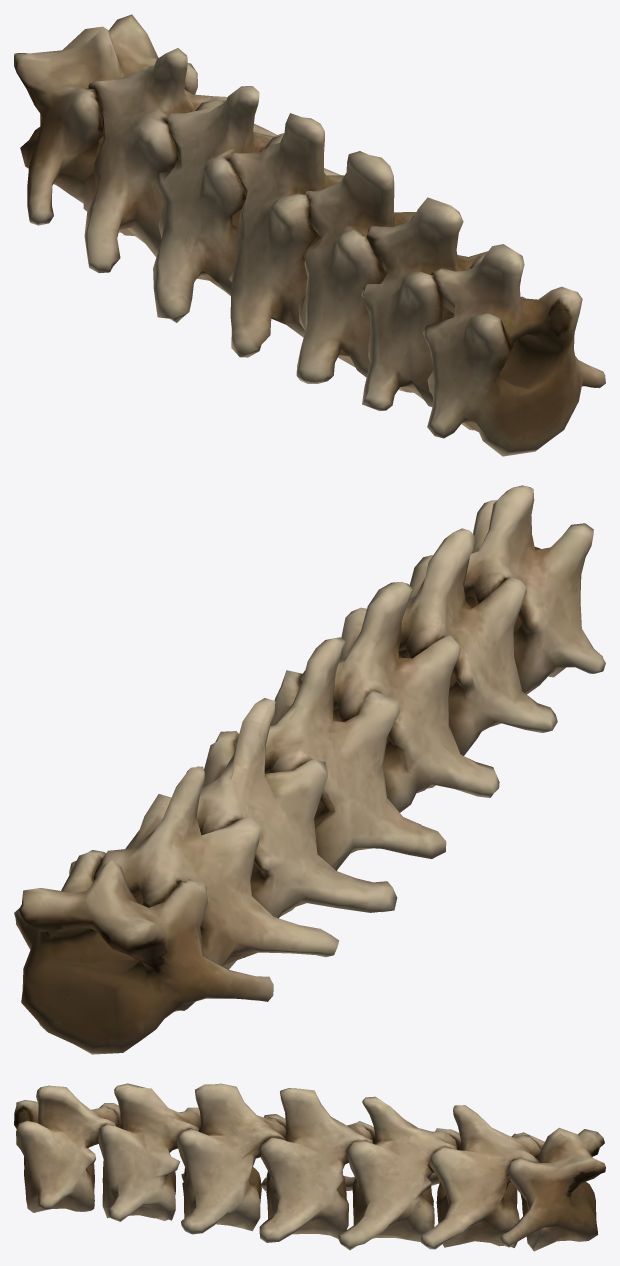
File: Lumbar_Vertebrae.glb
The picture shows the model from 3 angles, top to bottom: view 1: azimuth 30°, elevation 25°; view 2: azimuth 150°, elevation 25°; view 3: azimuth 270°, elevation 25°; orthographic projection. The views are drawn at different scales.
Visible parts, largest first — view 1: Lumbar_Vertebrae1:Lumbar_Vertebrae; view 2: Lumbar_Vertebrae1:Lumbar_Vertebrae; view 3: Lumbar_Vertebrae1:Lumbar_Vertebrae.
Part boxes in pixels (x1=…): Lumbar_Vertebrae1:Lumbar_Vertebrae: x1=14, y1=14, x2=605, y2=456; Lumbar_Vertebrae1:Lumbar_Vertebrae: x1=14, y1=485, x2=605, y2=1054; Lumbar_Vertebrae1:Lumbar_Vertebrae: x1=14, y1=1083, x2=605, y2=1251.
Bounding box in the file's own units: 46.61 × 43.38 × 146.
Materials: 1 (1 with a texture image).
